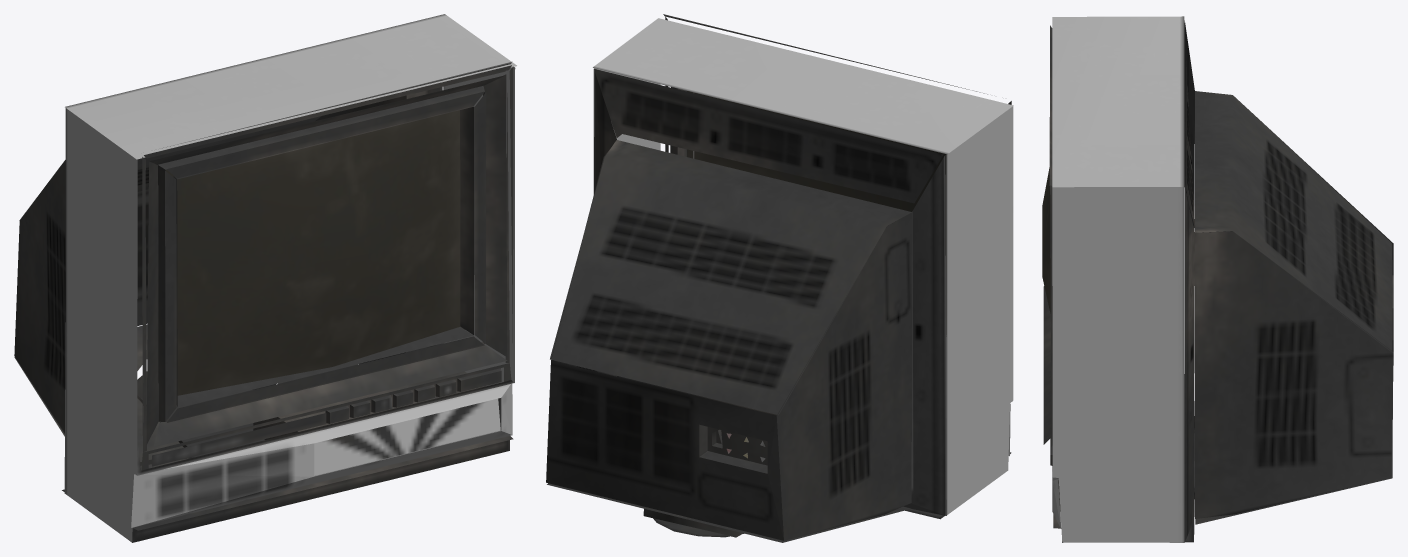
The model's file is TV_Old.fbx.
3 renders of one model, left to right at view 1: azimuth 30°, elevation 25°; view 2: azimuth 150°, elevation 25°; view 3: azimuth 270°, elevation 25°, orthographic. The views are drawn at different scales.
Visible parts, largest first — view 1: телевизор уебанский; view 2: телевизор уебанский; view 3: телевизор уебанский.
Boxes of the visible parts, left/top/right/bottom form: телевизор уебанский: left=14, top=14, right=516, bottom=542; телевизор уебанский: left=546, top=14, right=1013, bottom=542; телевизор уебанский: left=1042, top=16, right=1393, bottom=542.
Size of the model in its own units: 0.4039 by 0.3987 by 0.3505.
1 material, 1 textured.
